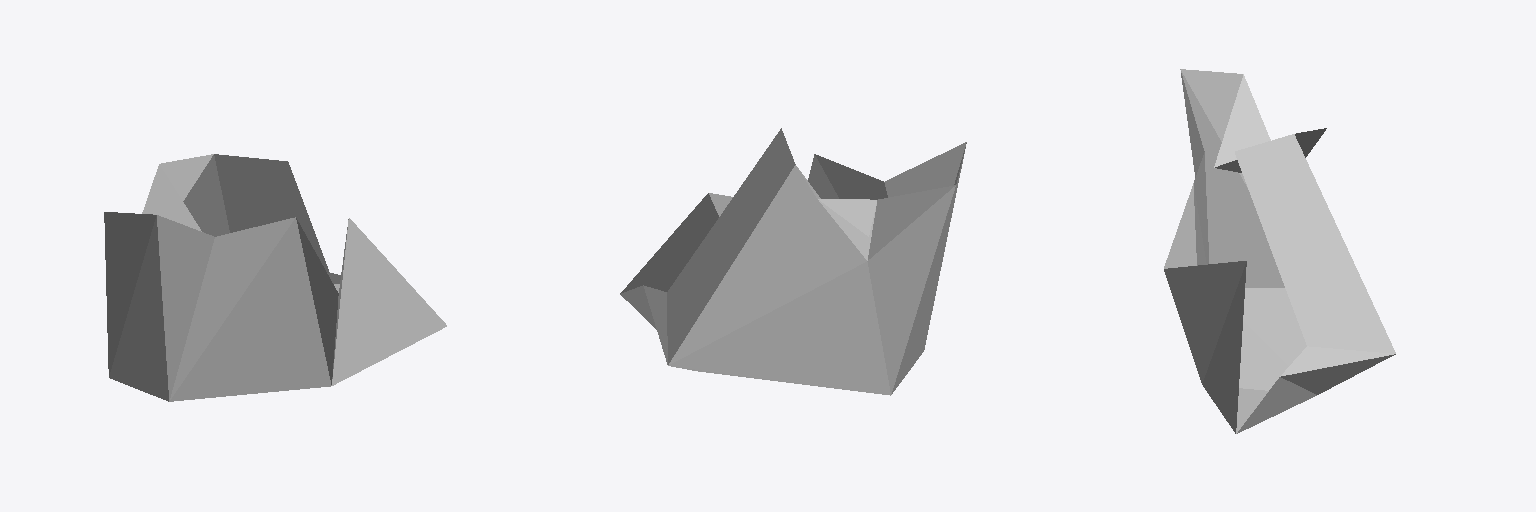
The model's file is crumpledPaper01_mesh.obj.
The picture shows the model from 3 angles: view 1: azimuth 30°, elevation 25°; view 2: azimuth 150°, elevation 25°; view 3: azimuth 270°, elevation 25°; orthographic projection.
Visible parts, largest first — view 1: crumpedPaper_01; view 2: crumpedPaper_01; view 3: crumpedPaper_01.
Boxes of the visible parts, <box> form: crumpedPaper_01: <box>104,154,446,401</box>; crumpedPaper_01: <box>620,128,966,395</box>; crumpedPaper_01: <box>1164,69,1395,433</box>.
Size of the model in its own units: 0.1257 by 0.0807 by 0.0745.